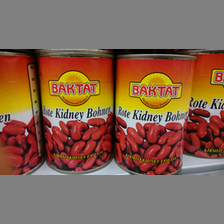beans: (116, 54, 195, 177), (39, 50, 113, 174), (1, 51, 39, 176), (195, 49, 224, 160)
